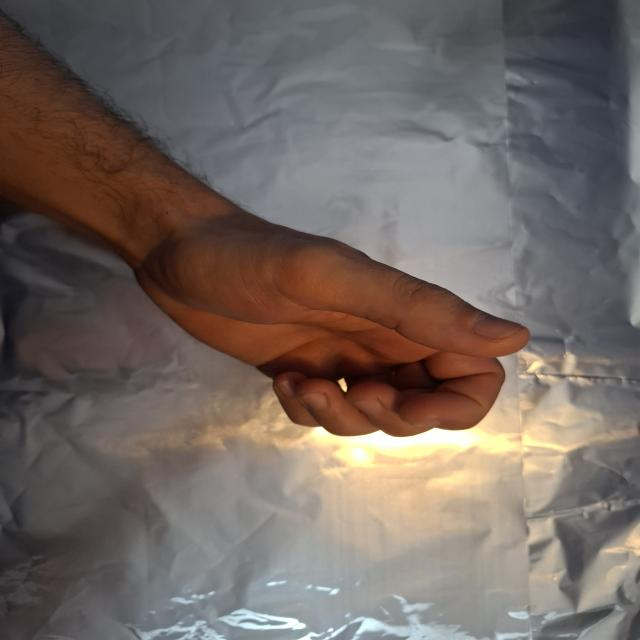glove_off: (121, 196, 536, 440)
